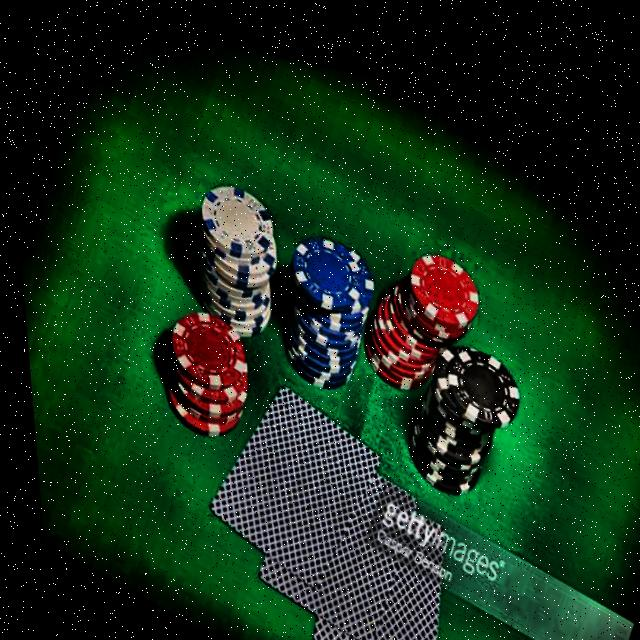Chip: (334, 190, 504, 416), (371, 287, 542, 508), (149, 149, 313, 353), (237, 196, 398, 403), (122, 269, 280, 460)
